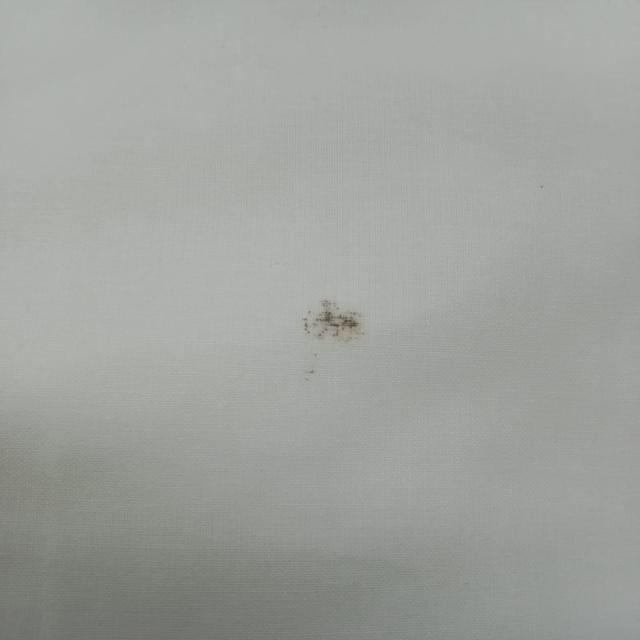stain: (291, 296, 370, 380)
